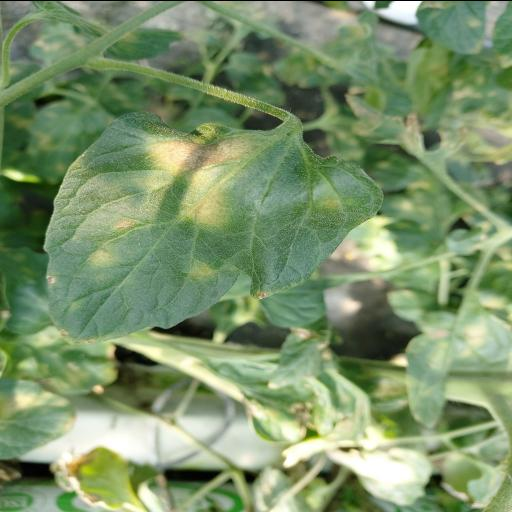Leaf Mold: (41, 109, 379, 344)
